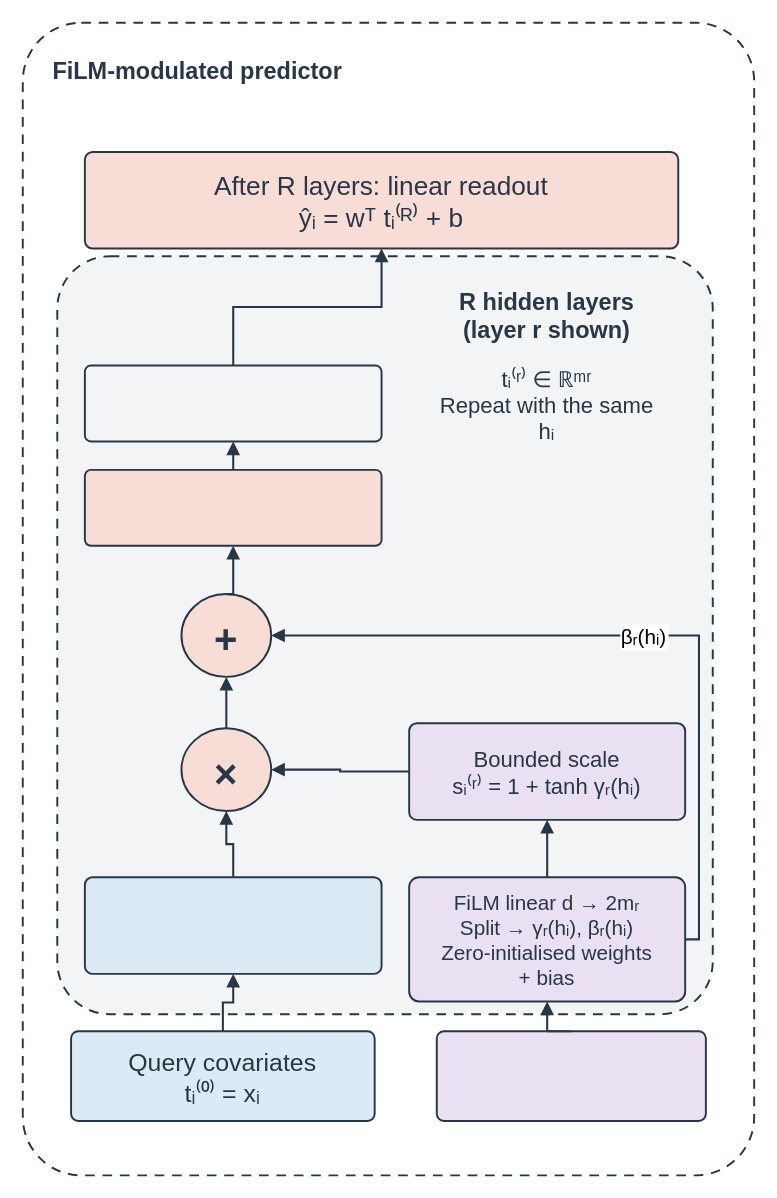
The diagram is 777 pixels wide and 1198 high, and some of its shapes have lost their labels. Here are the shapes that lost their labels. From the top down, the centre of each, then its label:
point 232,403: Dropout
point 232,507: GELU
point 232,925: Linear aᵢ⁽ʳ⁾ = Wᵣ tᵢ⁽ʳ⁻¹⁾ + cᵣ
point 570,1075: Local condition hᵢ ∈ ℝᵈ
